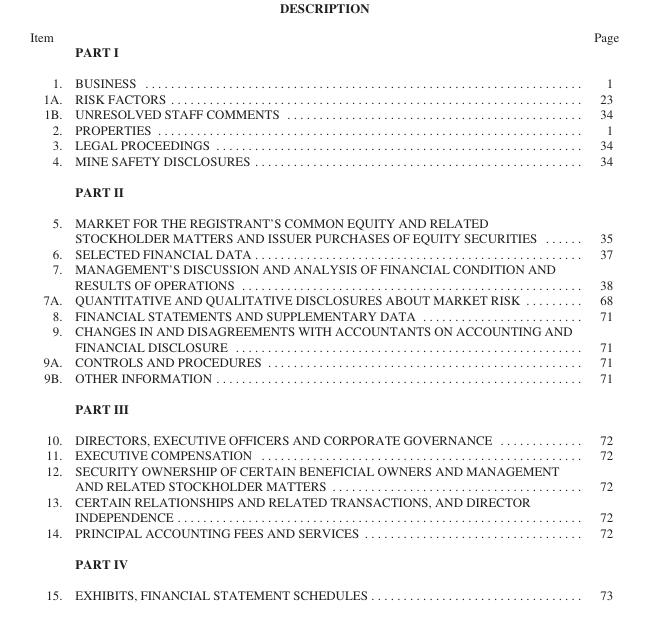table: (29, 28, 618, 601)
table column: (67, 28, 582, 601), (29, 28, 67, 601), (582, 28, 618, 601)
table column header: (29, 28, 618, 67)
table row: (29, 28, 618, 67), (29, 206, 618, 245), (29, 175, 618, 206), (29, 260, 618, 291), (29, 323, 618, 354), (29, 392, 618, 423), (29, 462, 618, 493), (29, 493, 618, 524), (29, 547, 618, 578), (29, 423, 618, 447), (29, 67, 618, 90), (29, 152, 618, 175), (29, 369, 618, 392), (29, 524, 618, 547), (29, 578, 618, 601), (29, 105, 618, 121), (29, 136, 618, 152), (29, 291, 618, 307), (29, 307, 618, 323), (29, 90, 618, 105), (29, 121, 618, 136), (29, 245, 618, 260), (29, 354, 618, 369), (29, 447, 618, 462)
table spanning cell: (29, 152, 67, 206), (29, 369, 67, 423), (29, 524, 67, 578)
